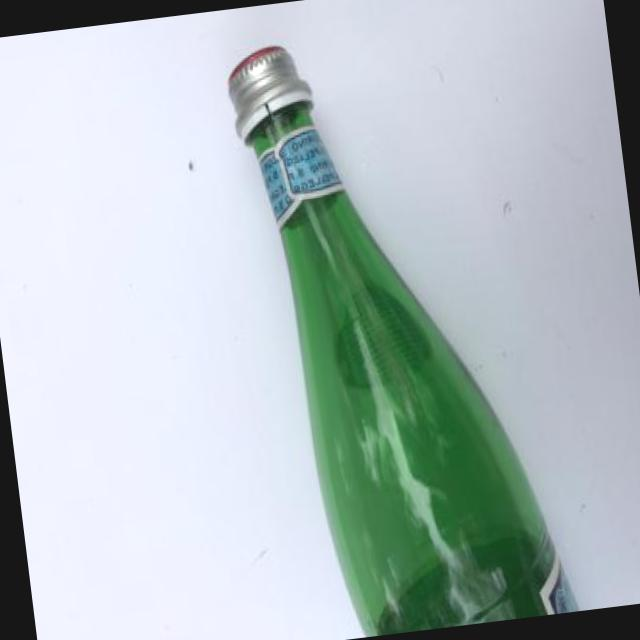chai_thuy_tinh: (281, 189, 561, 636)
kim_loai: (229, 45, 312, 141)
